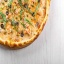pizza: (1, 1, 52, 45)
